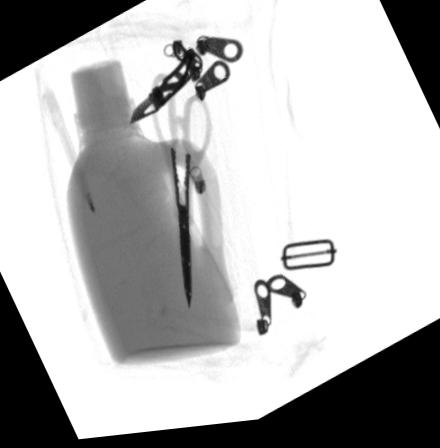Knife: (131, 55, 203, 127)
Scissors: (150, 76, 213, 312)
